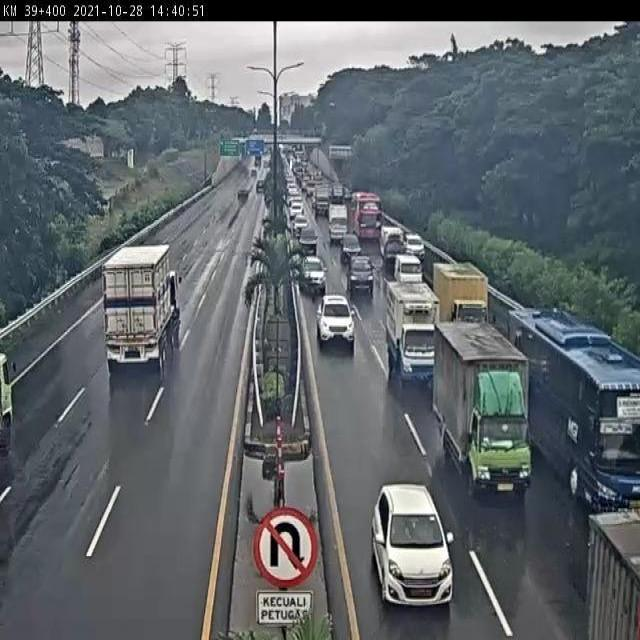big bus: (508, 309, 640, 520)
big truck: (103, 243, 181, 372)
car: (372, 483, 455, 604), (315, 295, 356, 345), (347, 253, 375, 291), (298, 253, 325, 292), (394, 252, 423, 283)
mid truck: (434, 319, 534, 492), (384, 280, 442, 384), (434, 263, 490, 324)
